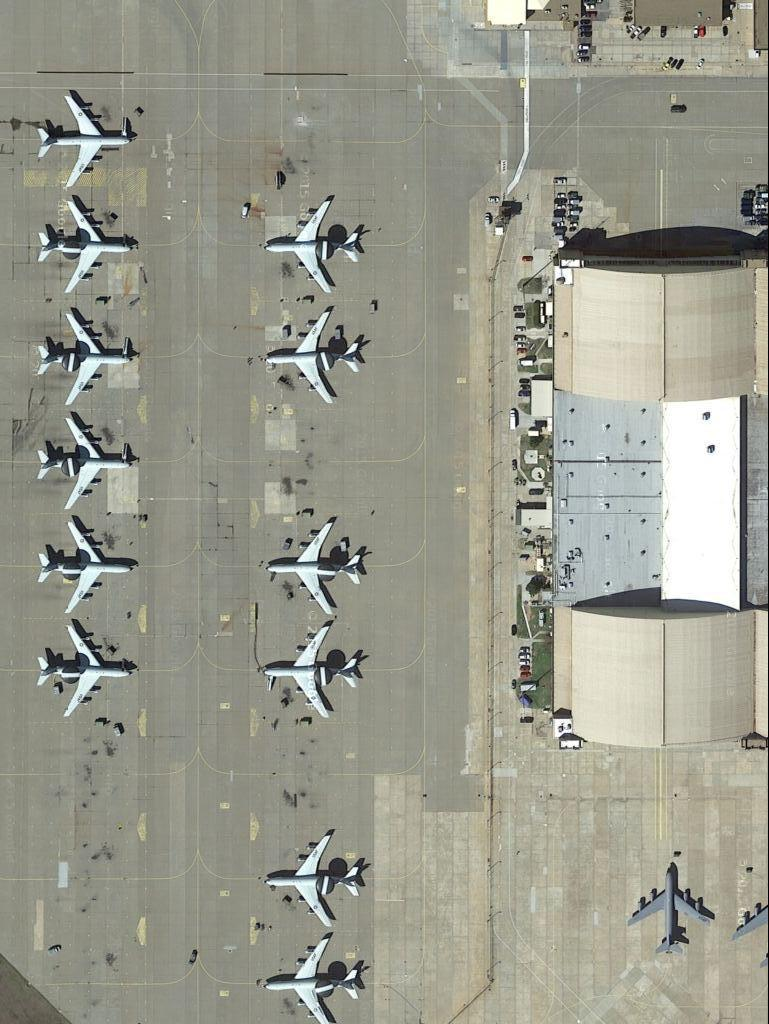E-3: (260, 306, 373, 410), (256, 621, 371, 722), (31, 515, 139, 617), (36, 309, 146, 409), (35, 618, 139, 721), (264, 829, 368, 931), (262, 517, 369, 616), (266, 194, 368, 297), (35, 195, 136, 297), (35, 414, 138, 513), (263, 930, 370, 1020)
E-8: (35, 89, 135, 192)
KC-135: (625, 863, 718, 959)
